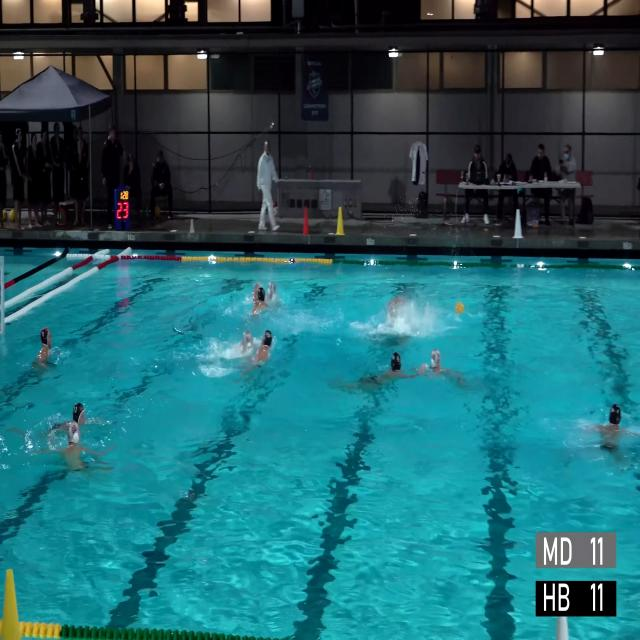ball: (455, 302, 464, 314), (155, 205, 160, 217), (9, 210, 15, 220), (3, 210, 7, 221)
